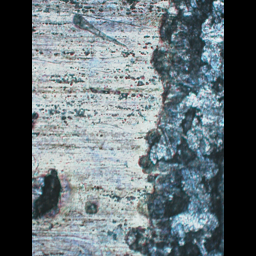d: (119, 0, 223, 254), (32, 164, 66, 235)
